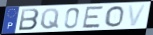0: (64, 7, 81, 30)
B: (18, 8, 41, 32)
E: (81, 5, 105, 29)
O: (104, 5, 125, 28)
Q: (40, 7, 61, 30)
V: (127, 4, 148, 28)
